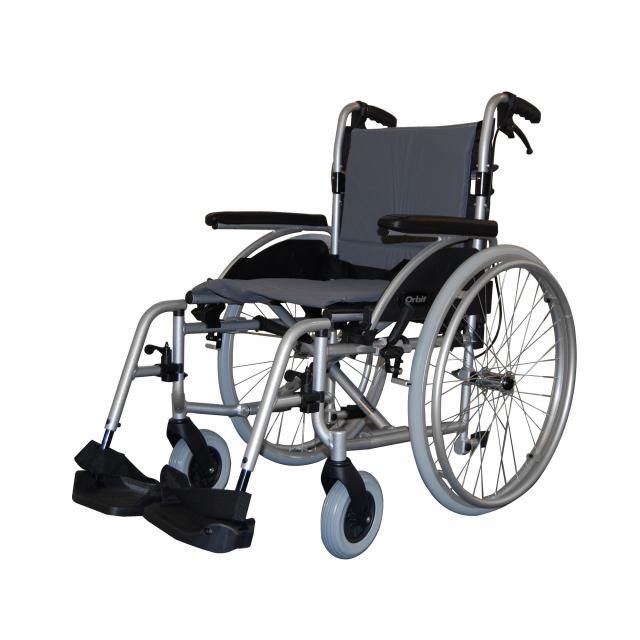wheelchair: (60, 70, 582, 580)
